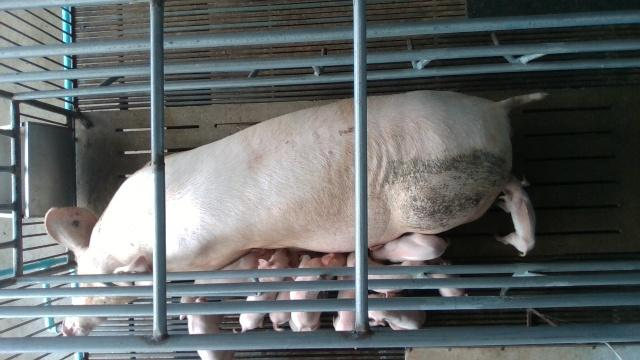piglet: (233, 249, 290, 333), (291, 254, 345, 332), (181, 296, 235, 360), (496, 174, 536, 256), (347, 252, 424, 293), (370, 233, 448, 262), (368, 295, 427, 330)
sow-sit: (45, 93, 542, 337)
